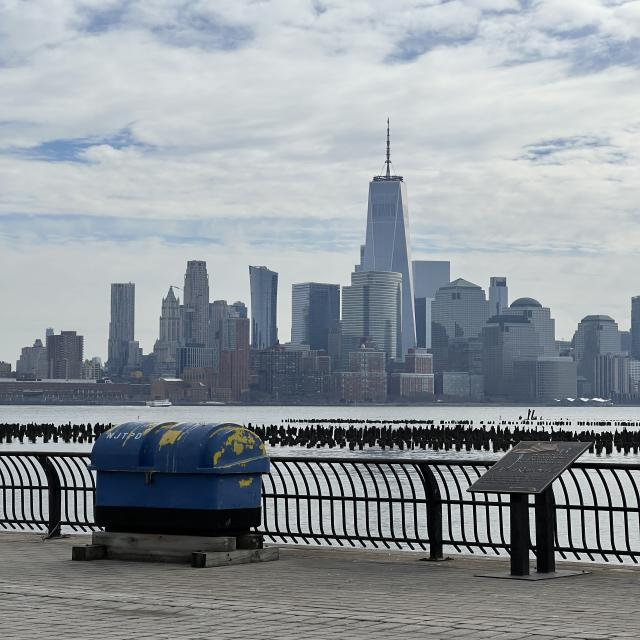WTC: (362, 118, 412, 271)
